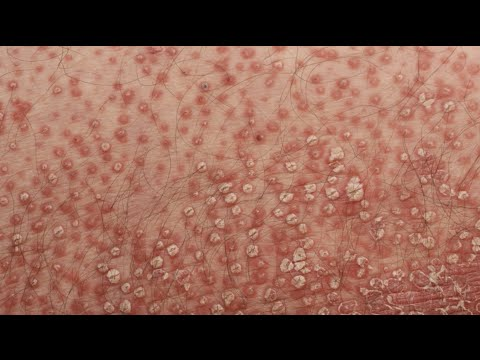Pityriasis Rubra Pilaris: (43, 85, 454, 315)
